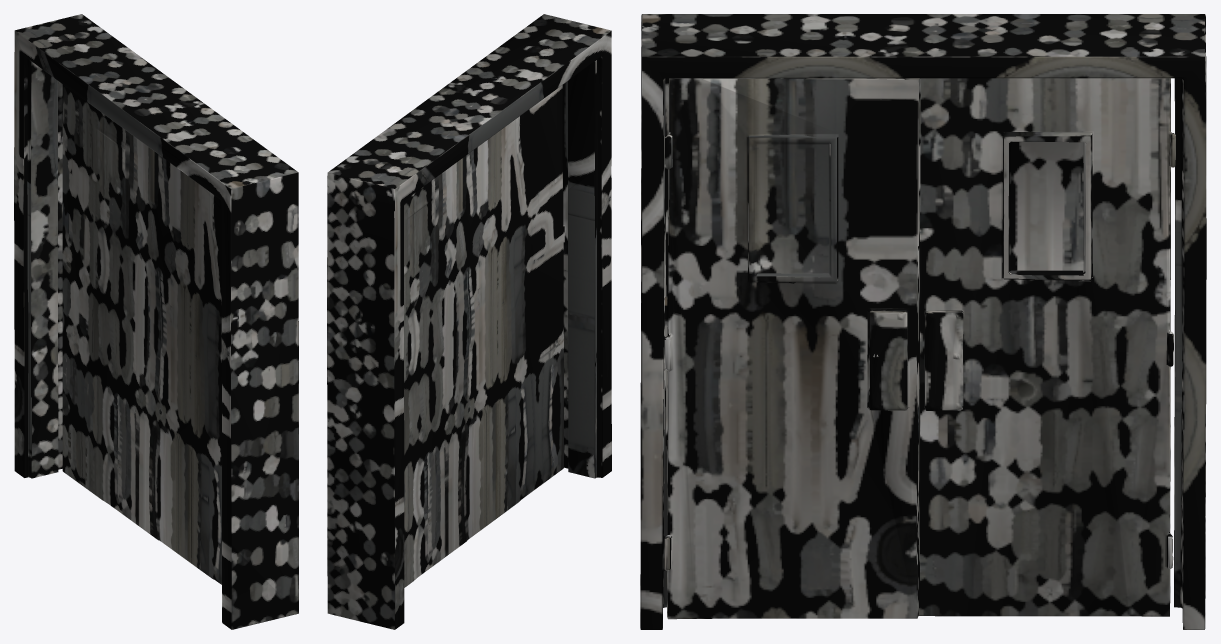
3 renders of one model, left to right at view 1: azimuth 30°, elevation 25°; view 2: azimuth 150°, elevation 25°; view 3: azimuth 270°, elevation 25°, orthographic. The views are drawn at different scales.
Visible parts, largest first — view 1: repaired; view 2: repaired; view 3: repaired.
Part boxes in pixels (left/top/right/bottom): repaired: left=14, top=14, right=298, bottom=629; repaired: left=327, top=14, right=611, bottom=629; repaired: left=640, top=14, right=1206, bottom=629.
Bounding box in the file's own units: 0.1625 × 1 × 0.8939.
